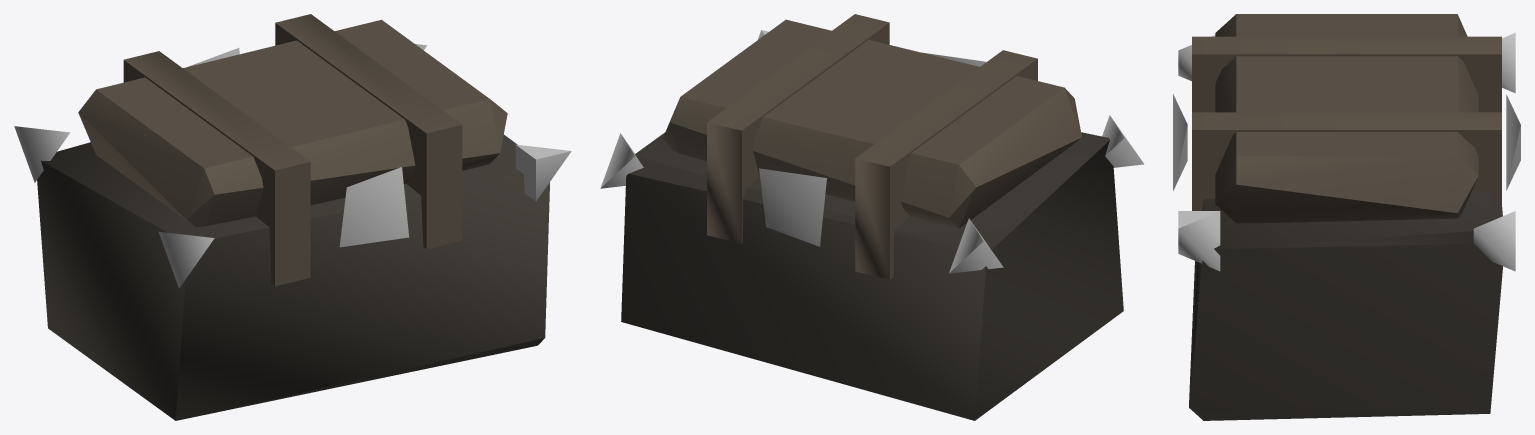
Rendered from loot_cache_lod2.glb.
3 views of the same model, side by side, from view 1: azimuth 30°, elevation 25°; view 2: azimuth 150°, elevation 25°; view 3: azimuth 270°, elevation 25° (orthographic). The views are drawn at different scales.
Visible parts, largest first — view 1: prop.loot_cache; view 2: prop.loot_cache; view 3: prop.loot_cache.
Boxes of the visible parts, box(x1,y1,x2,y2) form: prop.loot_cache: box(14, 14, 571, 420); prop.loot_cache: box(600, 14, 1143, 420); prop.loot_cache: box(1173, 14, 1520, 420).
Size of the model in its own units: 0.4237 by 0.2523 by 0.3178.
